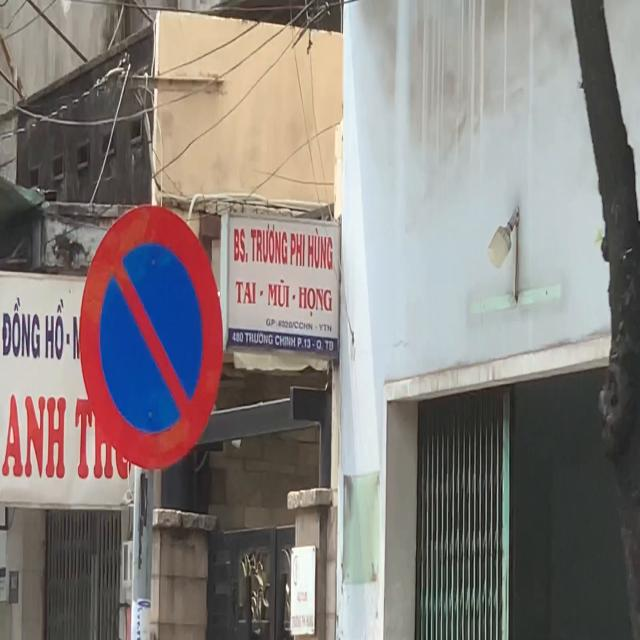Cam do: (80, 199, 222, 473)
